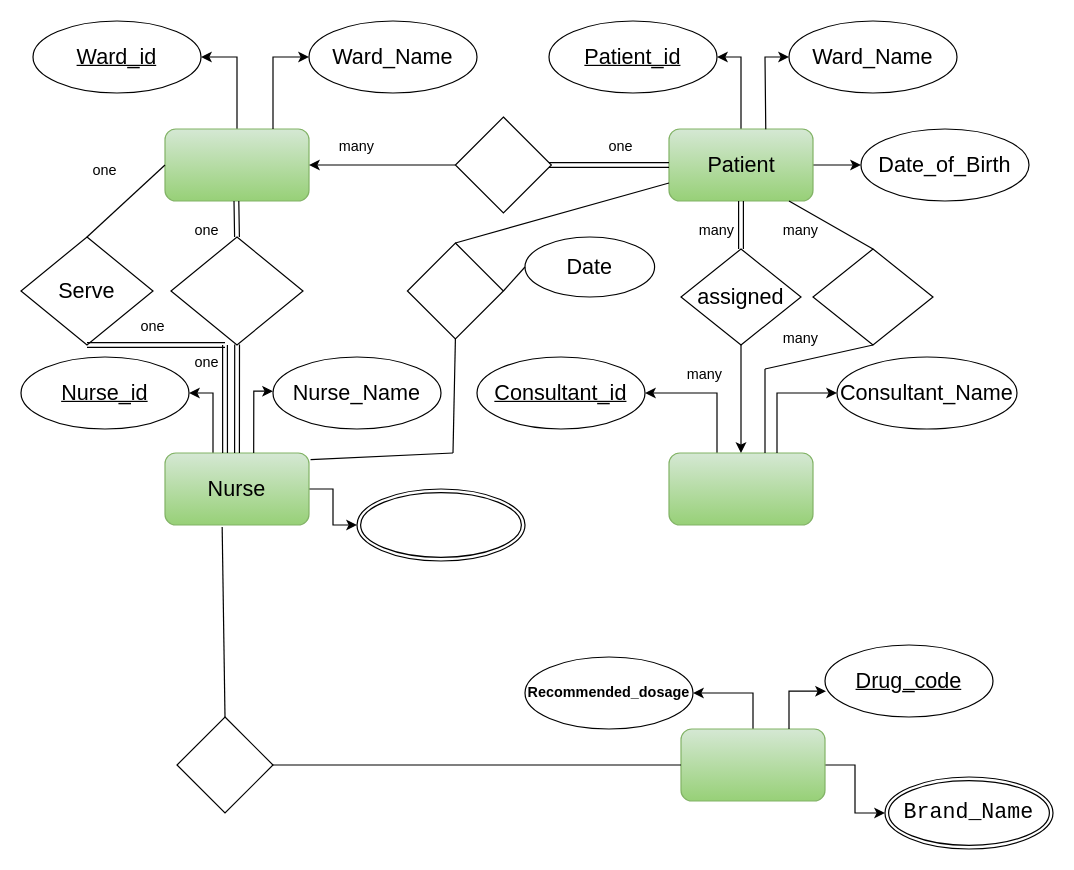
Some shapes in this 1074 by 870 pixel diagram are drawn without their labels. The shapes that lost their labels are listed below. From the top down, each one's centre as x and y in pixels, then its label:
At [236,164]: "Ward".
At [502,164]: "host".
At [236,290]: "Supervisor".
At [454,290]: "gives drugs".
At [872,296]: "Examined".
At [740,488]: "Consultant".
At [440,524]: "address".
At [224,764]: "Takes".
At [752,764]: "Drug".
